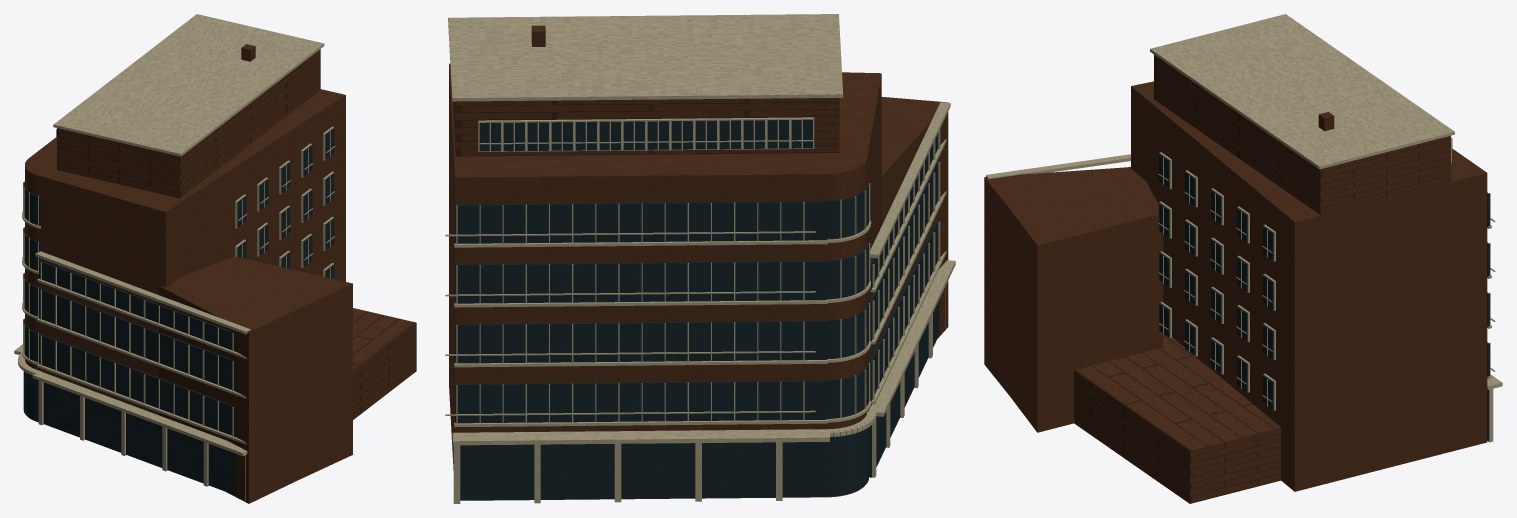
3 renders of one model, left to right at view 1: azimuth 30°, elevation 25°; view 2: azimuth 150°, elevation 25°; view 3: azimuth 270°, elevation 25°, orthographic. The views are drawn at different scales.
Visible parts, largest first — view 1: minervahuis-i-0, minervahuis-i-1, minervahuis-i-2; view 2: minervahuis-i-2, minervahuis-i-1, minervahuis-i-0; view 3: minervahuis-i-0, minervahuis-i-1, minervahuis-i-2.
Part boxes in pixels (box(x1,y1,x2,y2)): minervahuis-i-0: box(25, 44, 416, 503); minervahuis-i-1: box(14, 14, 334, 500); minervahuis-i-2: box(23, 128, 334, 495); minervahuis-i-2: box(455, 119, 939, 500); minervahuis-i-1: box(445, 14, 955, 503); minervahuis-i-0: box(449, 25, 948, 500); minervahuis-i-0: box(984, 54, 1487, 503); minervahuis-i-1: box(986, 14, 1502, 442); minervahuis-i-2: box(1128, 138, 1489, 440).
Bounding box in the file's own units: 30.45 × 25.65 × 36.25.
4 materials, 4 textured.
